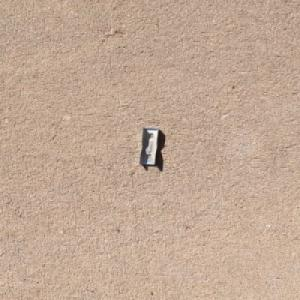ClampPart: (138, 126, 161, 166)
